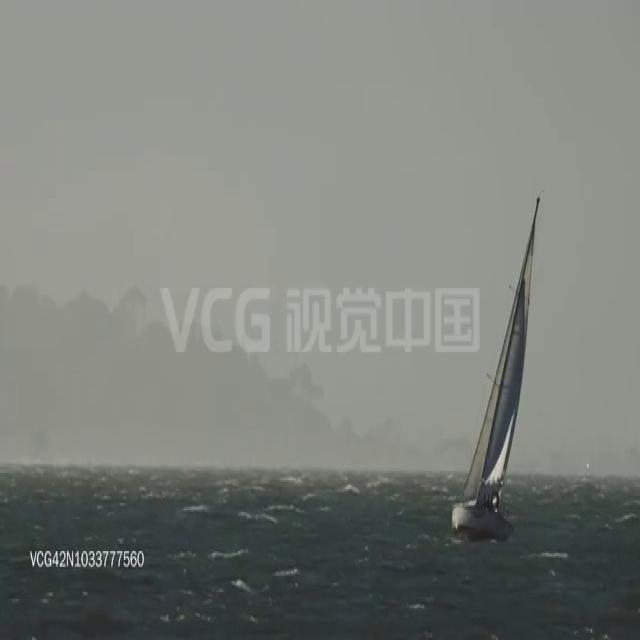sailboat: (450, 191, 540, 538)
